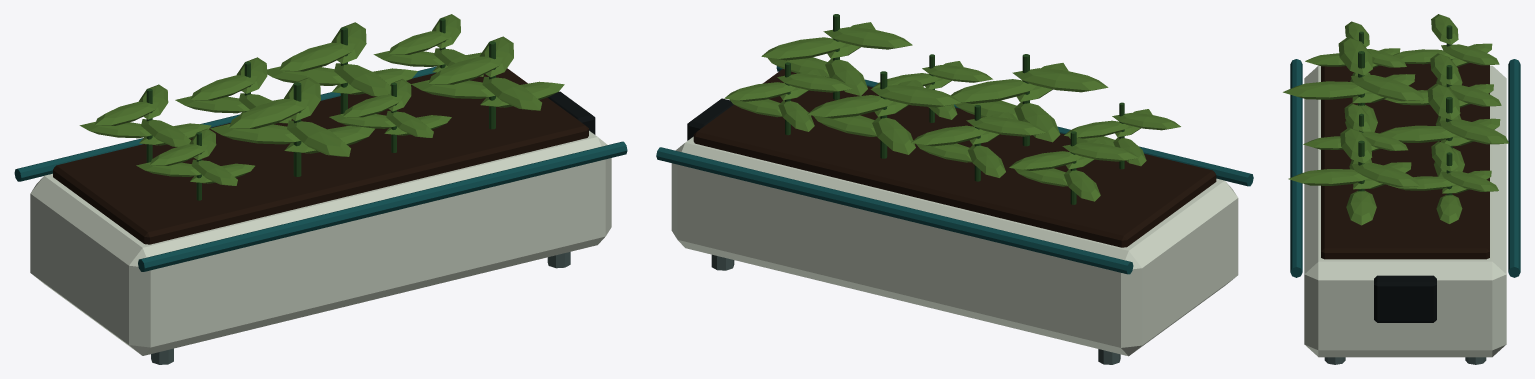
File: SM_MP_Grow_Bed.fbx
3 views of the same model, side by side, from view 1: azimuth 30°, elevation 25°; view 2: azimuth 150°, elevation 25°; view 3: azimuth 270°, elevation 25° (orthographic). The views are drawn at different scales.
Parts seen in each view (by area): view 1: SM_MP_Grow_Bed; view 2: SM_MP_Grow_Bed; view 3: SM_MP_Grow_Bed.
Part boxes in pixels (x1,y1,x2,y2): SM_MP_Grow_Bed: [14, 14, 627, 364]; SM_MP_Grow_Bed: [656, 14, 1253, 364]; SM_MP_Grow_Bed: [1283, 14, 1520, 364].
Bounding box in the file's own units: 290 × 136 × 127.
1 material, 1 textured.
